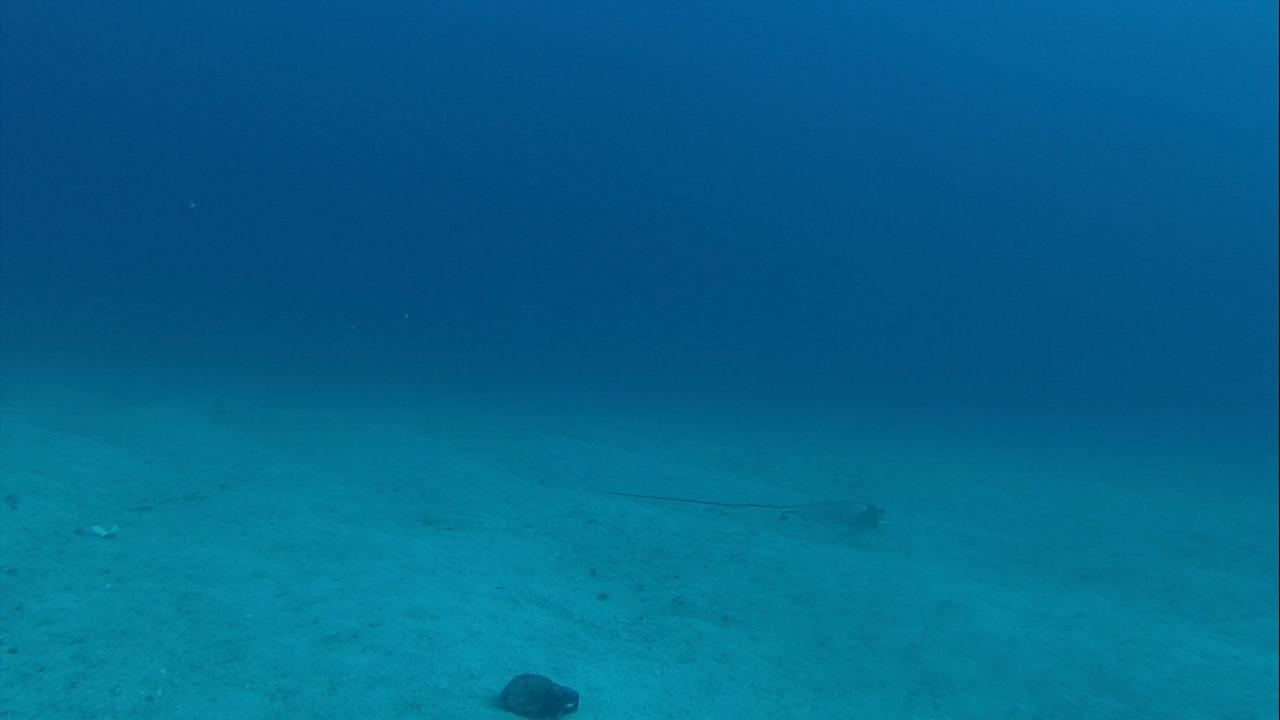myliobatis: (579, 473, 896, 550)
